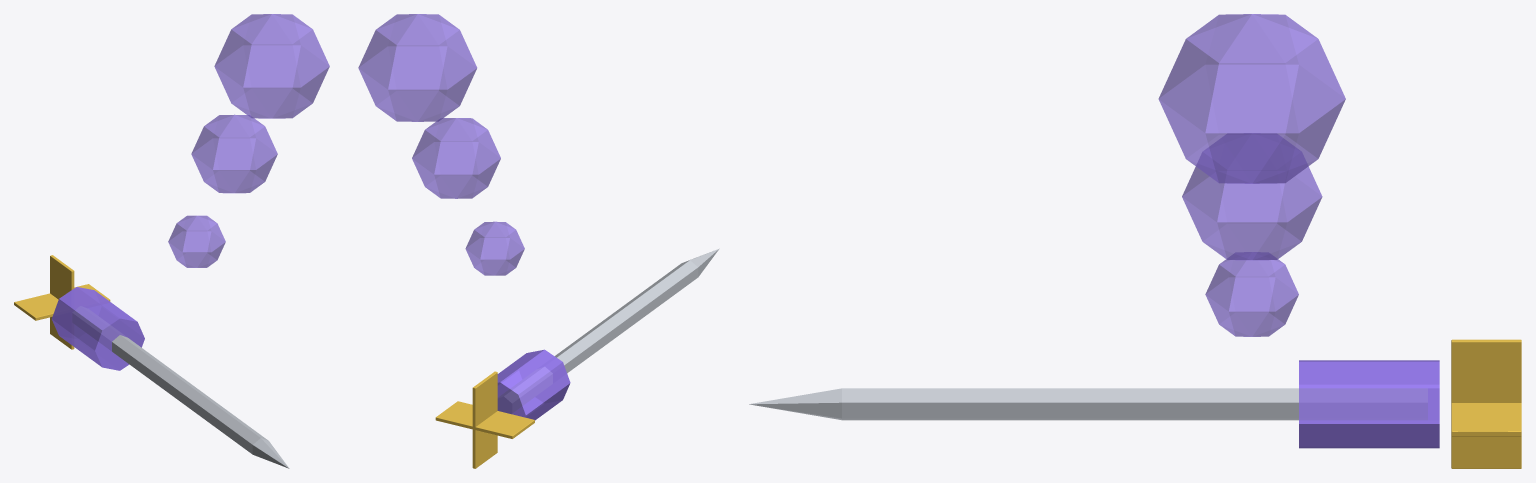
The model's file is sleep_dart.glb.
3 renders of one model, left to right at view 1: azimuth 30°, elevation 25°; view 2: azimuth 150°, elevation 25°; view 3: azimuth 270°, elevation 25°, orthographic. The views are drawn at different scales.
Visible parts, largest first — view 1: zzz_2, zzz_1, needle, vial, zzz_0, fin_v, fin_h, needle_tip; view 2: zzz_2, zzz_1, needle, vial, zzz_0, fin_v, fin_h; view 3: zzz_2, needle, zzz_1, vial, fin_v, zzz_0, fin_h, needle_tip.
Part boxes in pixels (left/top/right/bottom): zzz_2: left=214, top=14, right=329, bottom=118; zzz_1: left=191, top=114, right=277, bottom=193; needle: left=73, top=306, right=268, bottom=454; vial: left=52, top=287, right=144, bottom=370; zzz_0: left=168, top=215, right=225, bottom=267; fin_v: left=50, top=255, right=74, bottom=349; fin_h: left=14, top=284, right=110, bottom=320; needle_tip: left=252, top=438, right=289, bottom=468; zzz_2: left=358, top=14, right=477, bottom=121; zzz_1: left=412, top=118, right=500, bottom=198; needle: left=498, top=260, right=698, bottom=413; vial: left=497, top=349, right=570, bottom=420; zzz_0: left=465, top=221, right=524, bottom=275; fin_v: left=472, top=371, right=497, bottom=468; fin_h: left=435, top=401, right=534, bottom=438; zzz_2: left=1158, top=14, right=1345, bottom=183; needle: left=842, top=388, right=1427, bottom=420; zzz_1: left=1182, top=133, right=1322, bottom=260; vial: left=1299, top=360, right=1439, bottom=448; fin_v: left=1451, top=339, right=1521, bottom=468; zzz_0: left=1205, top=252, right=1298, bottom=336; fin_h: left=1451, top=403, right=1521, bottom=436; needle_tip: left=749, top=388, right=841, bottom=420.
Bounding box in the file's own units: 0.3493 × 0.53 × 0.66.
